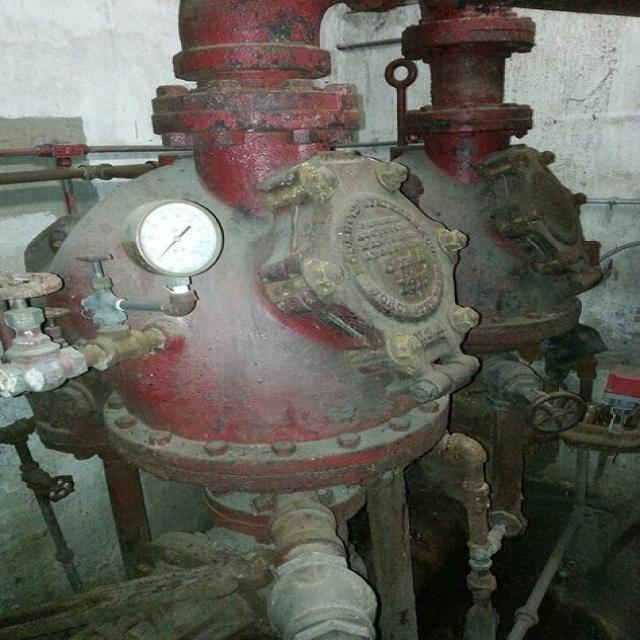Wheel Handle Valve Threaded: (0, 271, 89, 397), (76, 254, 152, 370)
